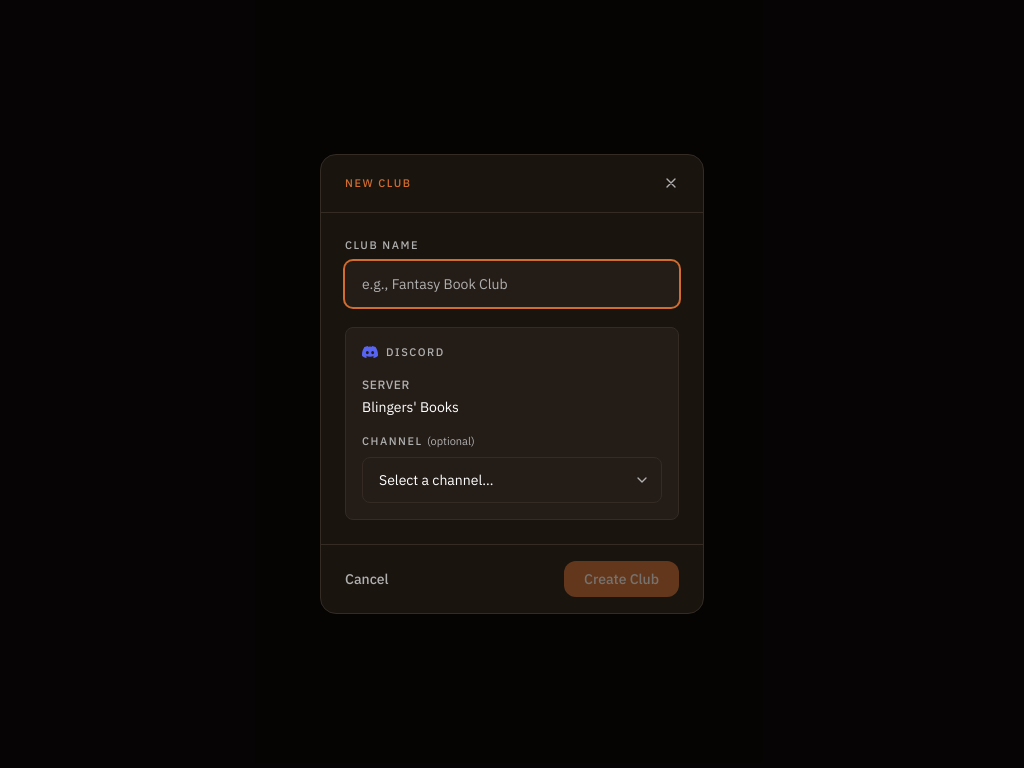
AddClubModal › Form Validation › should enable submit button when club name is filled
Type "My Book Club" into the field with placeholder "e.g., Fantasy Book Club" at [512, 284], box x1=345 y1=261 x2=679 y2=307
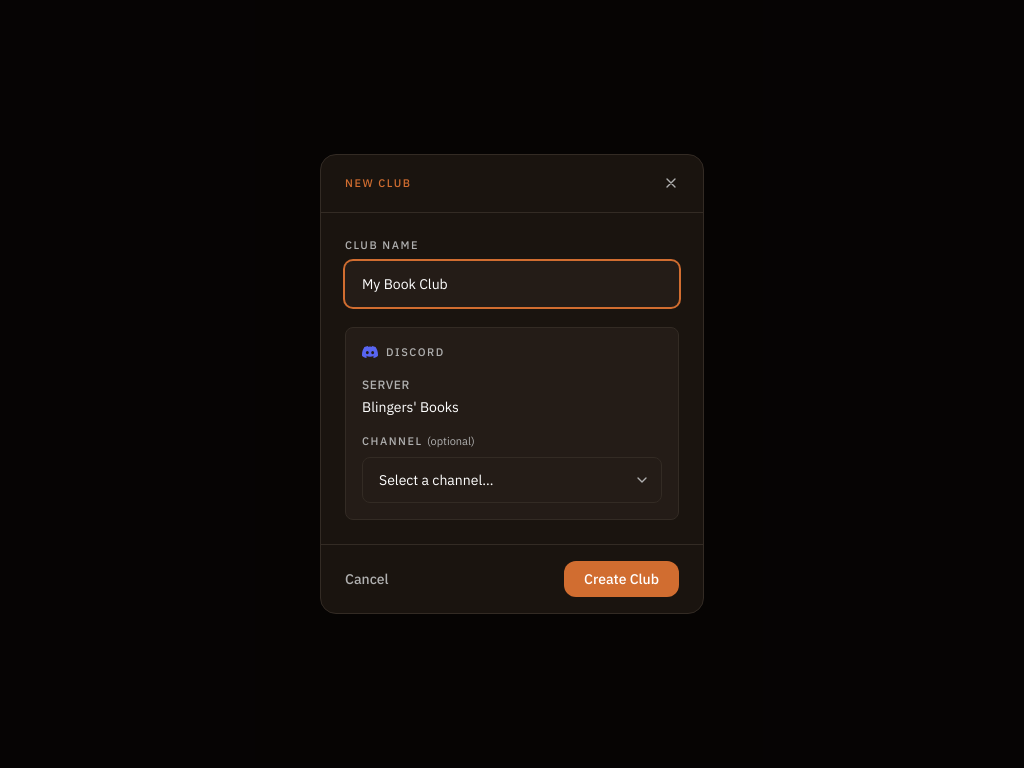
Result: the button "Create Club" is enabled at x1=564 y1=561 x2=679 y2=597
